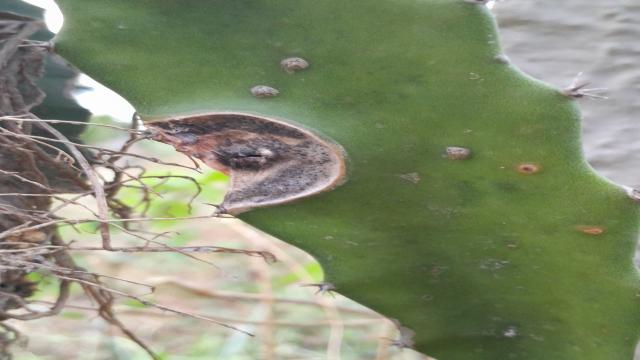stemcanker: (440, 140, 473, 166), (245, 80, 283, 102), (280, 52, 312, 78), (399, 169, 425, 188), (515, 159, 541, 177), (580, 224, 605, 238)
